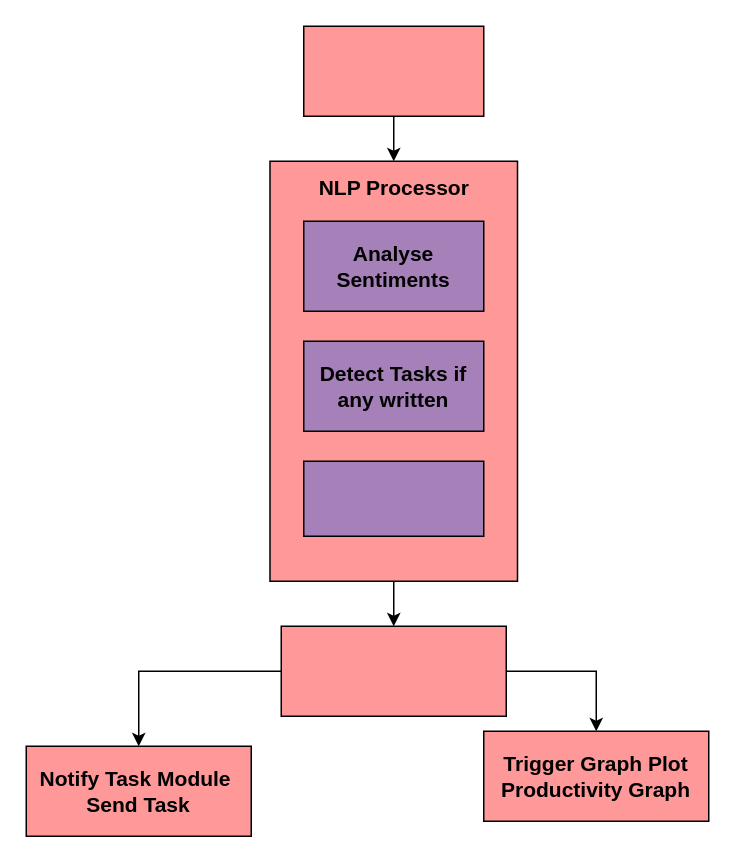
Image size: 735x863. Some labels were removed from this diagram. Here are the shapes that lost their labels. From the top down, the box of each, then its label:
(302, 25, 484, 116): Entry from submission
(302, 460, 484, 536): Estimate Productivity
(280, 625, 506, 716): Store Results in DB (MongoDB-results)
